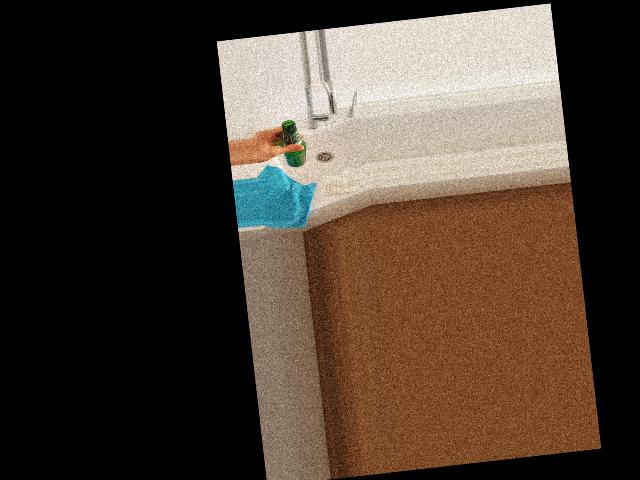beer: (277, 118, 308, 169)
